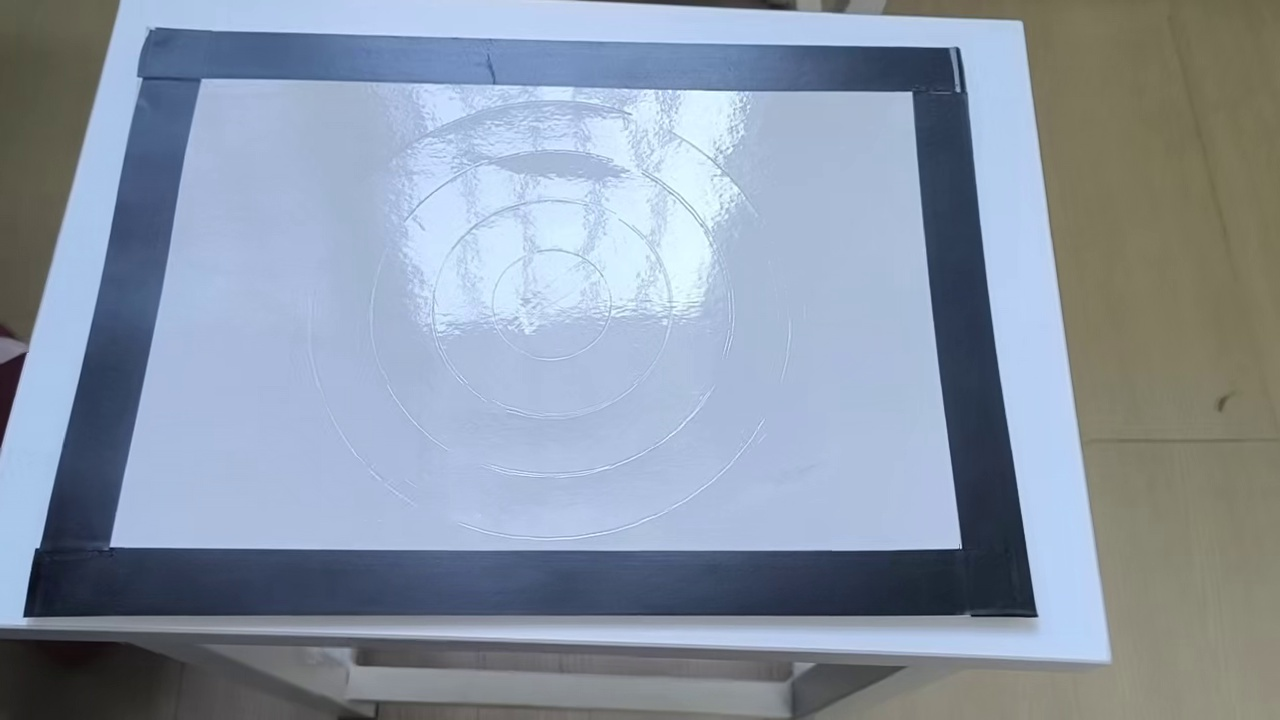board: (30, 28, 1038, 616)
